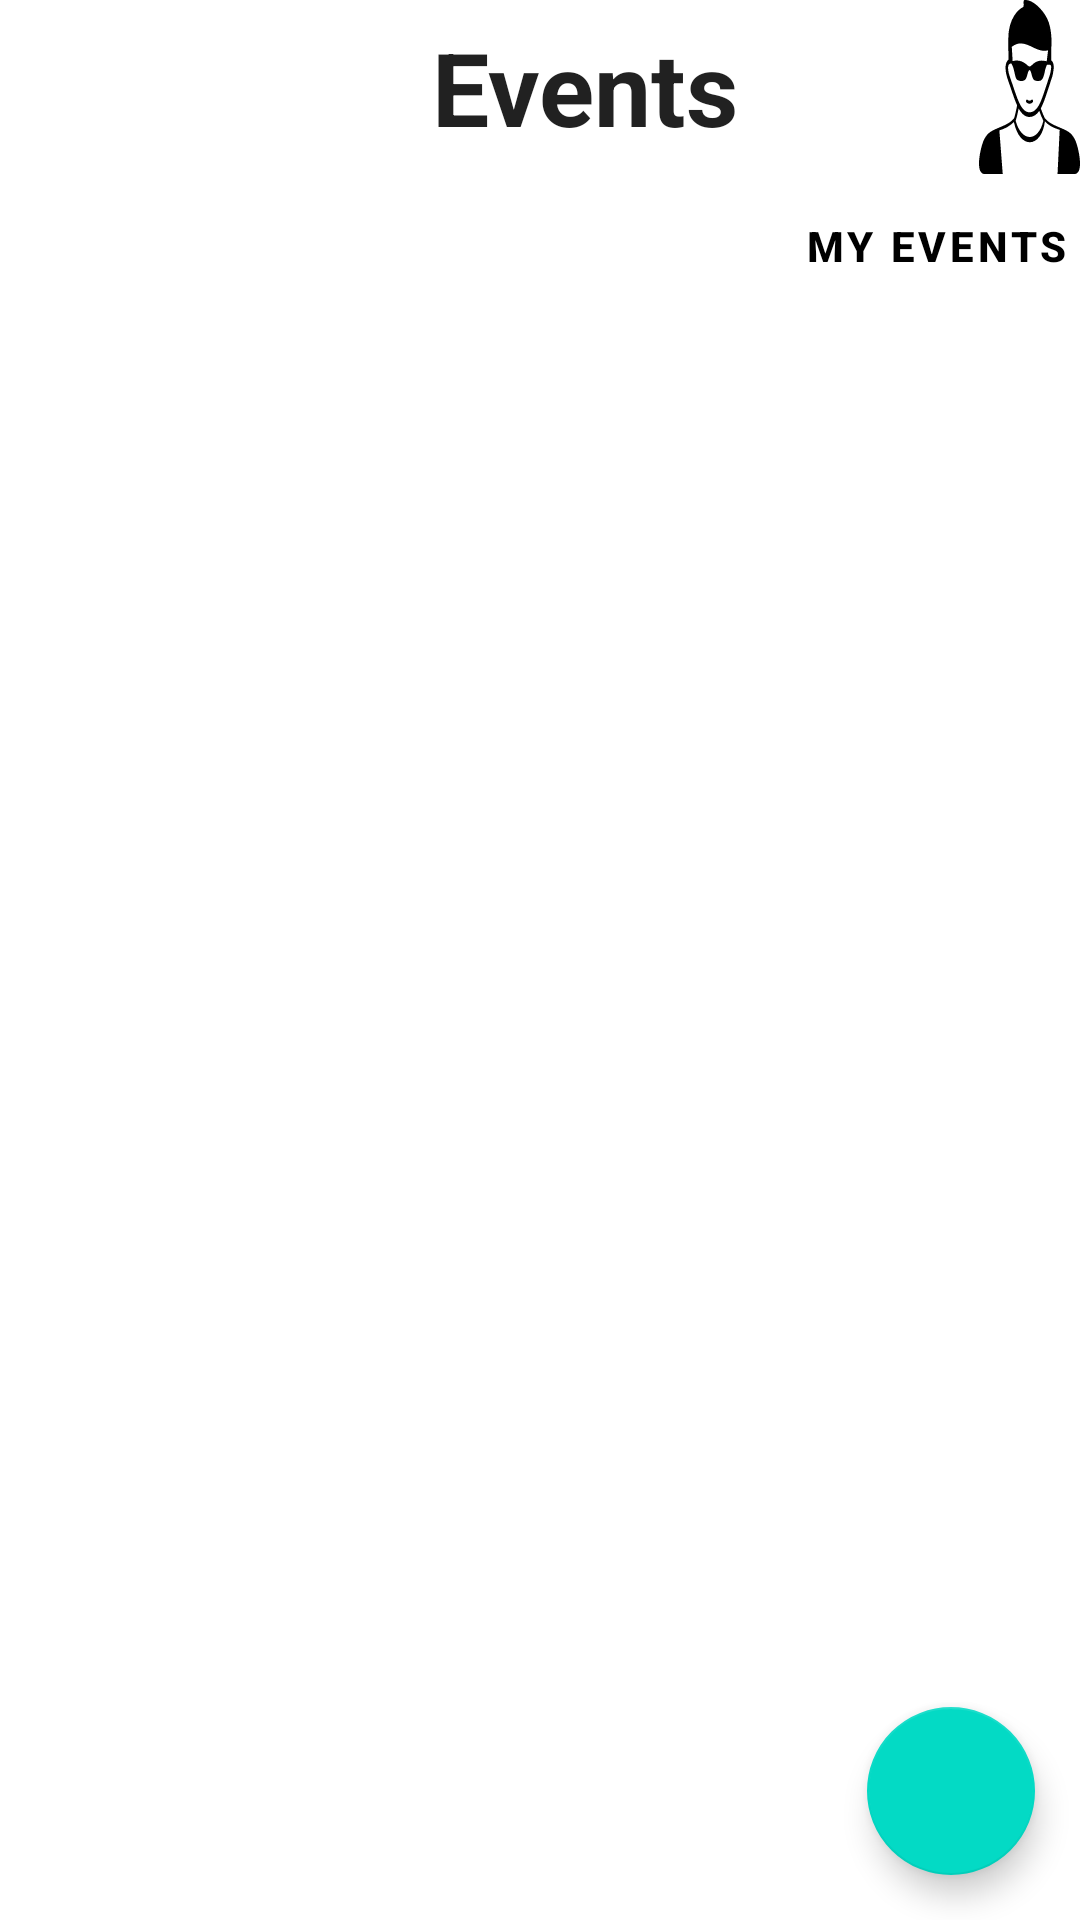

Where icons sit on this 1080px x 1920px app screen, as (x1, y1, x2, y2):
profile: (979, 0, 1080, 174)
